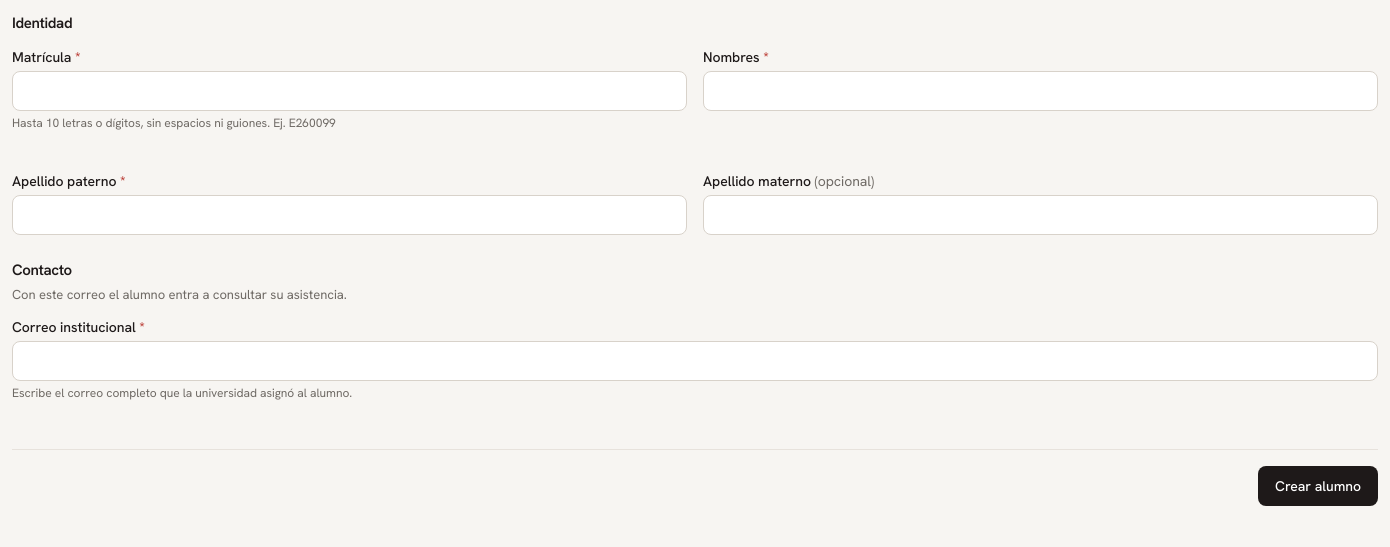
AlumnoForm (alta simple) › no envía con campos vacíos, muestra los errores y enfoca el primero
Click the button "Crear alumno". click: (1318, 486)
box: [1258,466,1378,506]
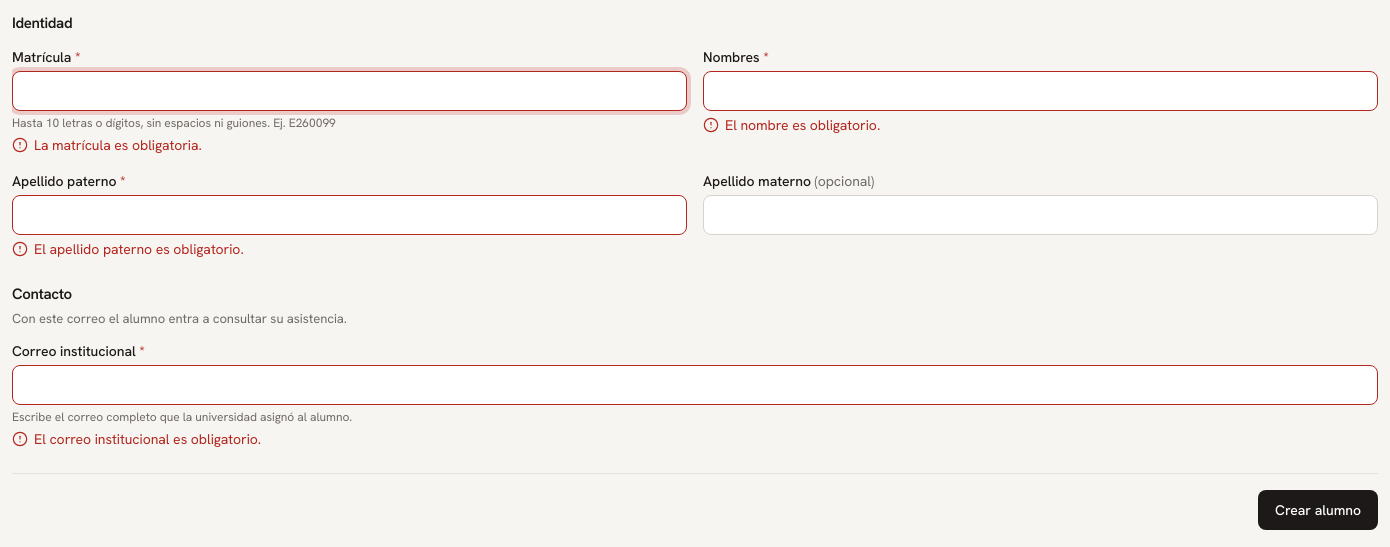
Now the text "La matrícula es obligatoria." is shown, box [12,136,202,154]
Now the text "El apellido paterno es obligatorio." is shown, box [12,240,244,258]
